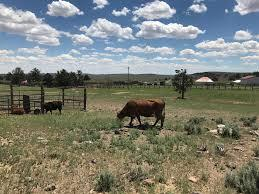cow: (116, 99, 166, 131), (42, 101, 63, 116)
